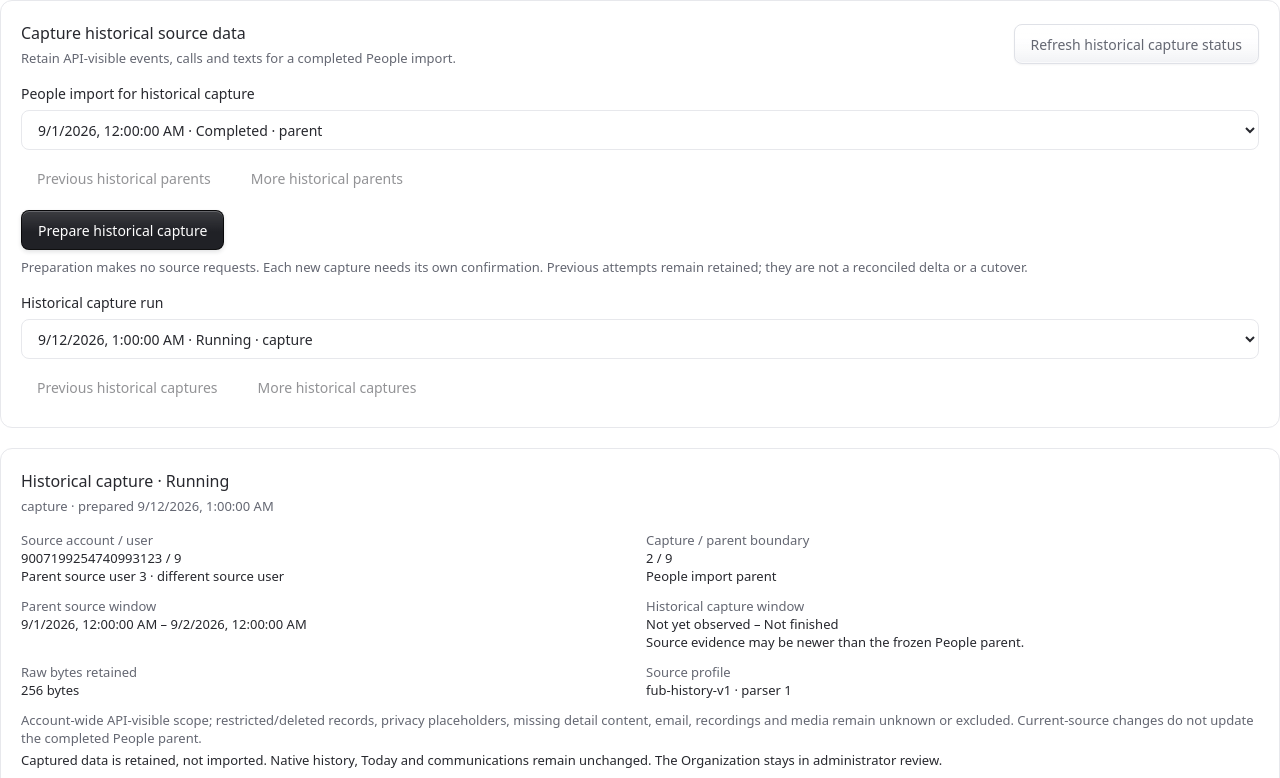
Test: historical capture workflow › clears source busy when an unselected active run settles without refreshing observation pages
The width and height of the screenshot is (1280, 778).
Select "9/12/2026, 1:00:00 AM · Completed with gaps · other-capture" in the dropdown labelled "Historical capture run" at (640, 339), box 21,319 -> 1259,359
Wait 62100 ms
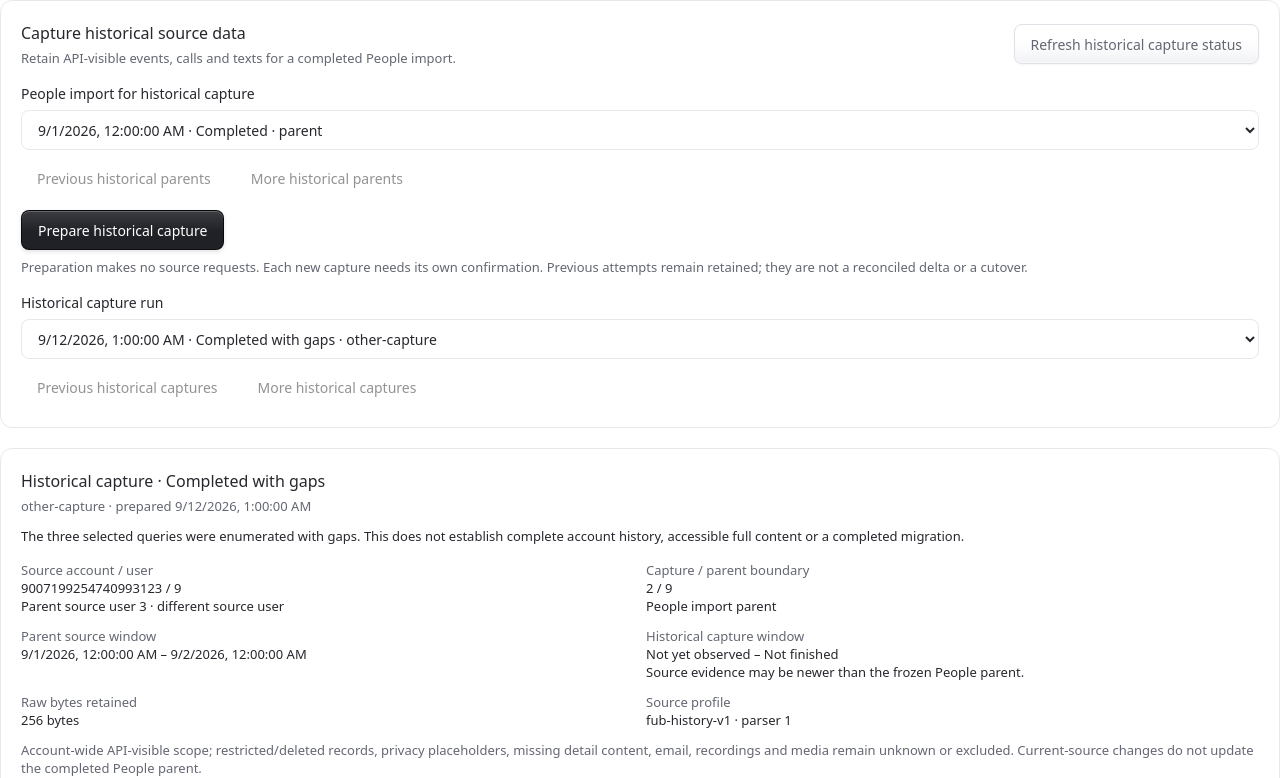
Expected: the text "Historical capture · Completed with gaps" is shown, 21,470 -> 325,492
